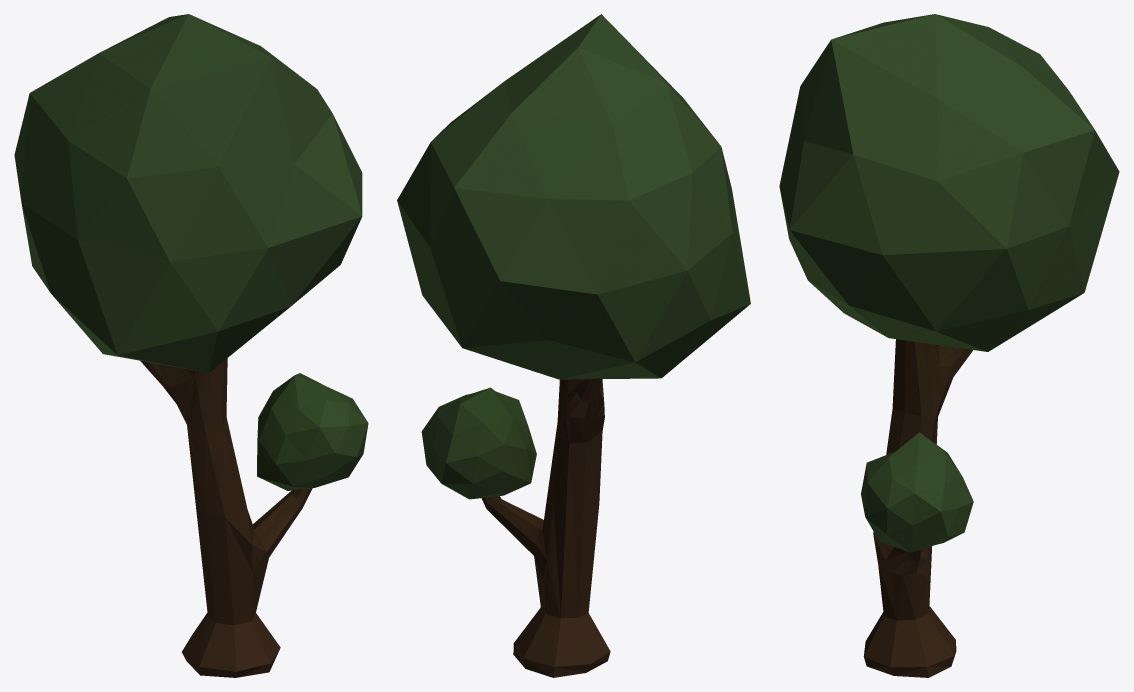
The model's file is tree6.obj.
3 views of the same model, side by side, from view 1: azimuth 30°, elevation 25°; view 2: azimuth 150°, elevation 25°; view 3: azimuth 270°, elevation 25° (orthographic). The views are drawn at different scales.
Parts seen in each view (by area): view 1: Tree6_Plane.012_Tree6_Plane.012_Leaves, Tree6_Plane.012_Tree6_Plane.012_Trunk; view 2: Tree6_Plane.012_Tree6_Plane.012_Leaves, Tree6_Plane.012_Tree6_Plane.012_Trunk; view 3: Tree6_Plane.012_Tree6_Plane.012_Leaves, Tree6_Plane.012_Tree6_Plane.012_Trunk.
Part boxes in pixels (<box>): Tree6_Plane.012_Tree6_Plane.012_Leaves: <box>14,14,368,490</box>; Tree6_Plane.012_Tree6_Plane.012_Trunk: <box>140,358,312,677</box>; Tree6_Plane.012_Tree6_Plane.012_Leaves: <box>397,14,750,499</box>; Tree6_Plane.012_Tree6_Plane.012_Trunk: <box>481,378,610,677</box>; Tree6_Plane.012_Tree6_Plane.012_Leaves: <box>779,14,1119,552</box>; Tree6_Plane.012_Tree6_Plane.012_Trunk: <box>863,339,973,677</box>.
Bounding box in the file's own units: 3.46 × 7.14 × 3.49.
Materials: 2 (2 with a texture image).
